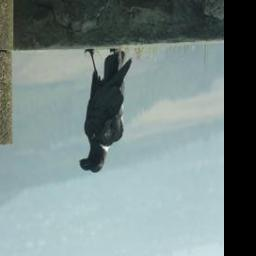Crow: (78, 48, 133, 175)
